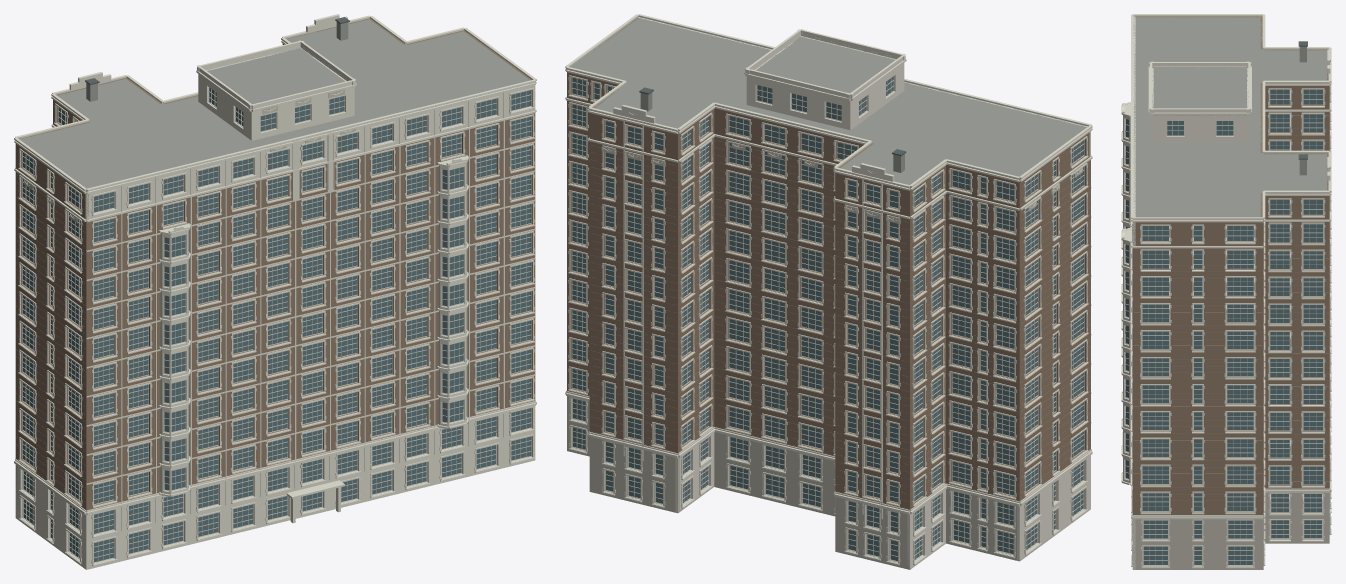
The model's file is huangpu-cathay-mansions-web.glb.
3 renders of one model, left to right at view 1: azimuth 30°, elevation 25°; view 2: azimuth 150°, elevation 25°; view 3: azimuth 270°, elevation 25°, orthographic. The views are drawn at different scales.
Parts seen in each view (by area): view 1: 华懋公寓历史主楼外观候选; view 2: 华懋公寓历史主楼外观候选; view 3: 华懋公寓历史主楼外观候选.
Boxes of the visible parts, <box> form: 华懋公寓历史主楼外观候选: <box>14,14,536,569</box>; 华懋公寓历史主楼外观候选: <box>565,14,1092,569</box>; 华懋公寓历史主楼外观候选: <box>1121,14,1331,569</box>.
Bounding box in the file's own units: 65.05 × 57 × 28.29.
